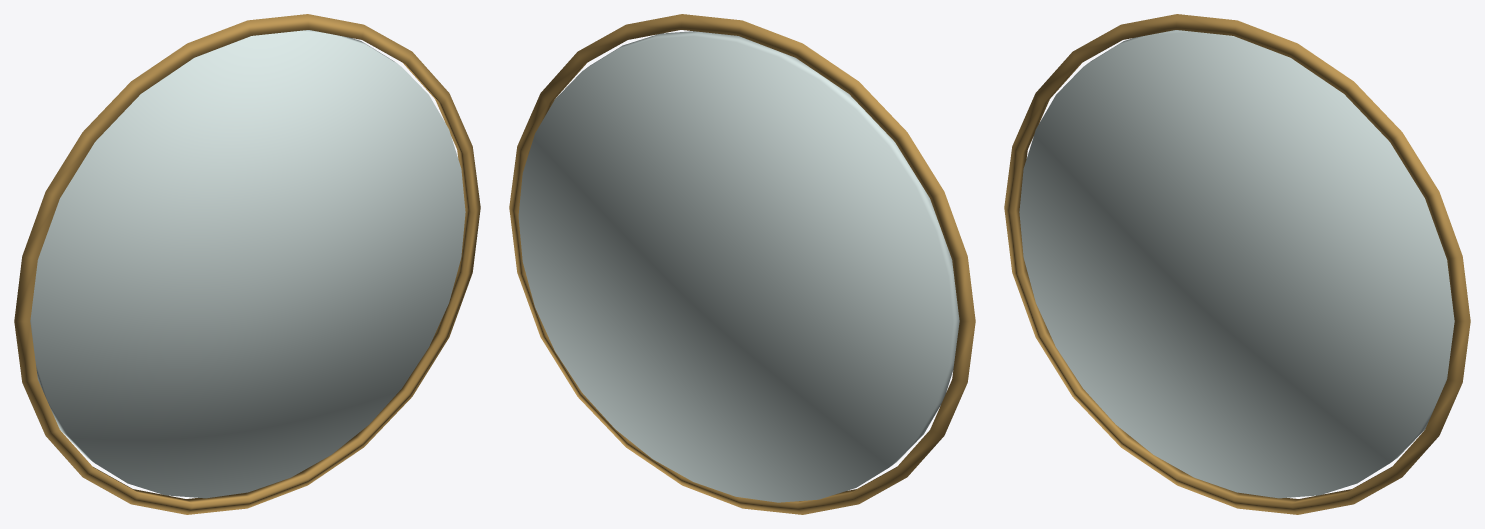
The model's file is mirror.glb.
3 renders of one model, left to right at view 1: azimuth 30°, elevation 25°; view 2: azimuth 150°, elevation 25°; view 3: azimuth 330°, elevation 25°, orthographic.
Visible parts, largest first — view 1: mirror_mirror, mirror_brass_frame; view 2: mirror_mirror, mirror_brass_frame; view 3: mirror_mirror, mirror_brass_frame.
Boxes of the visible parts, x1,y1,x2,y2 form: mirror_mirror: (30, 30, 465, 498); mirror_brass_frame: (14, 14, 480, 514); mirror_mirror: (518, 31, 959, 502); mirror_brass_frame: (509, 14, 975, 514); mirror_mirror: (1019, 30, 1454, 498); mirror_brass_frame: (1004, 14, 1470, 514).
Size of the model in its own units: 0.87 by 0.87 by 0.035.
